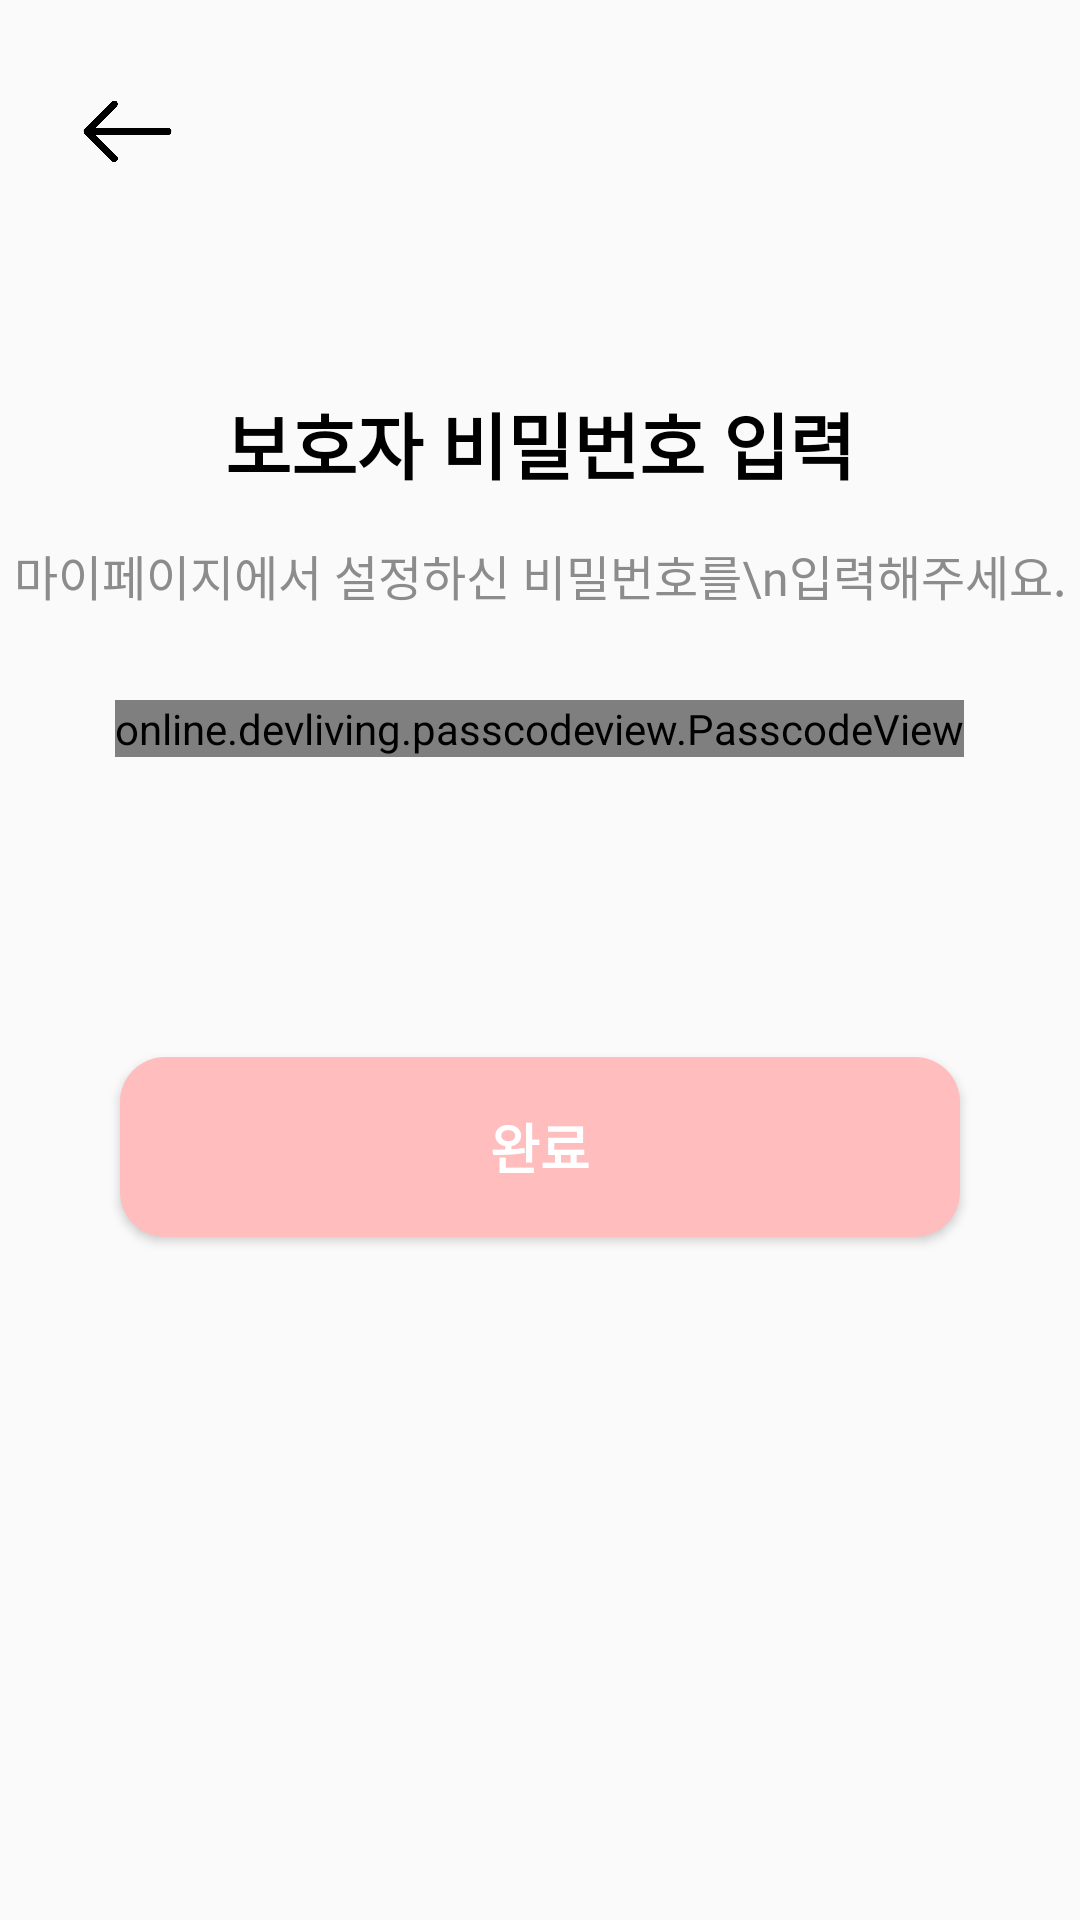

Icon bounding boxes for this 1080 × 1920 phone screenshot, format (left=x1, top=y1, right=x2, bottom=y2):
back: (left=83, top=101, right=172, bottom=162)
